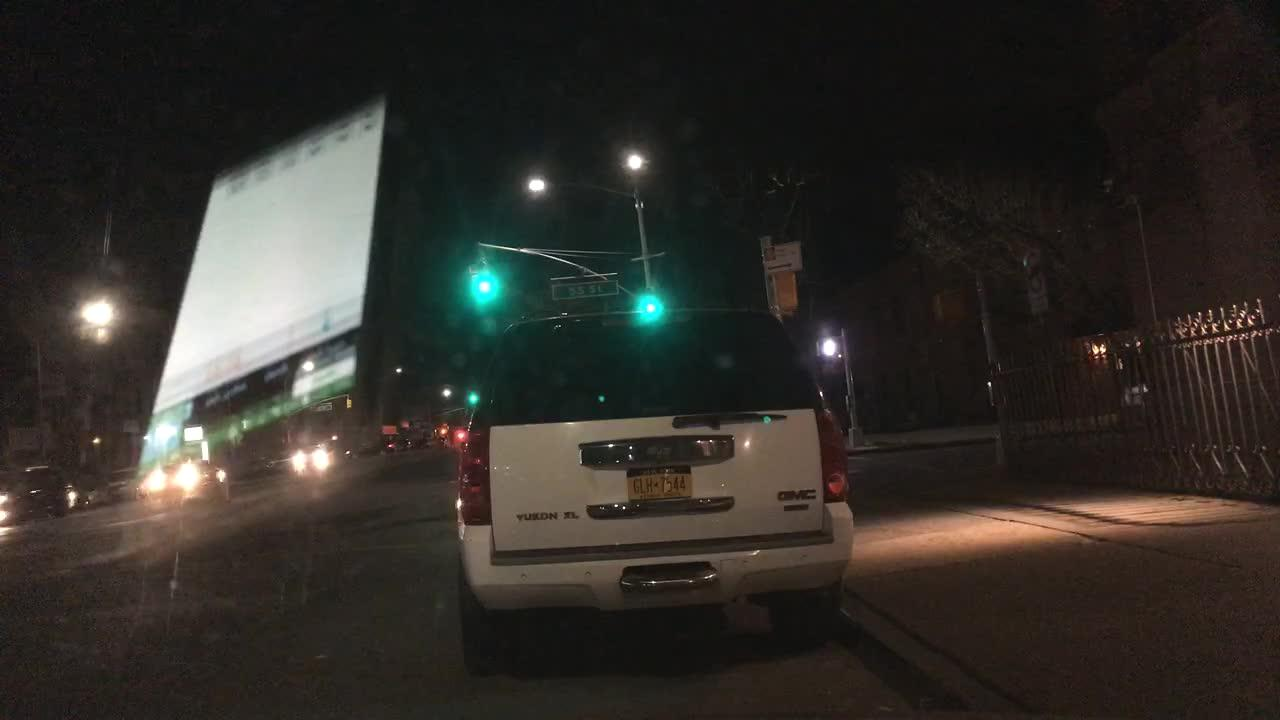GMC: (772, 486, 819, 504)
